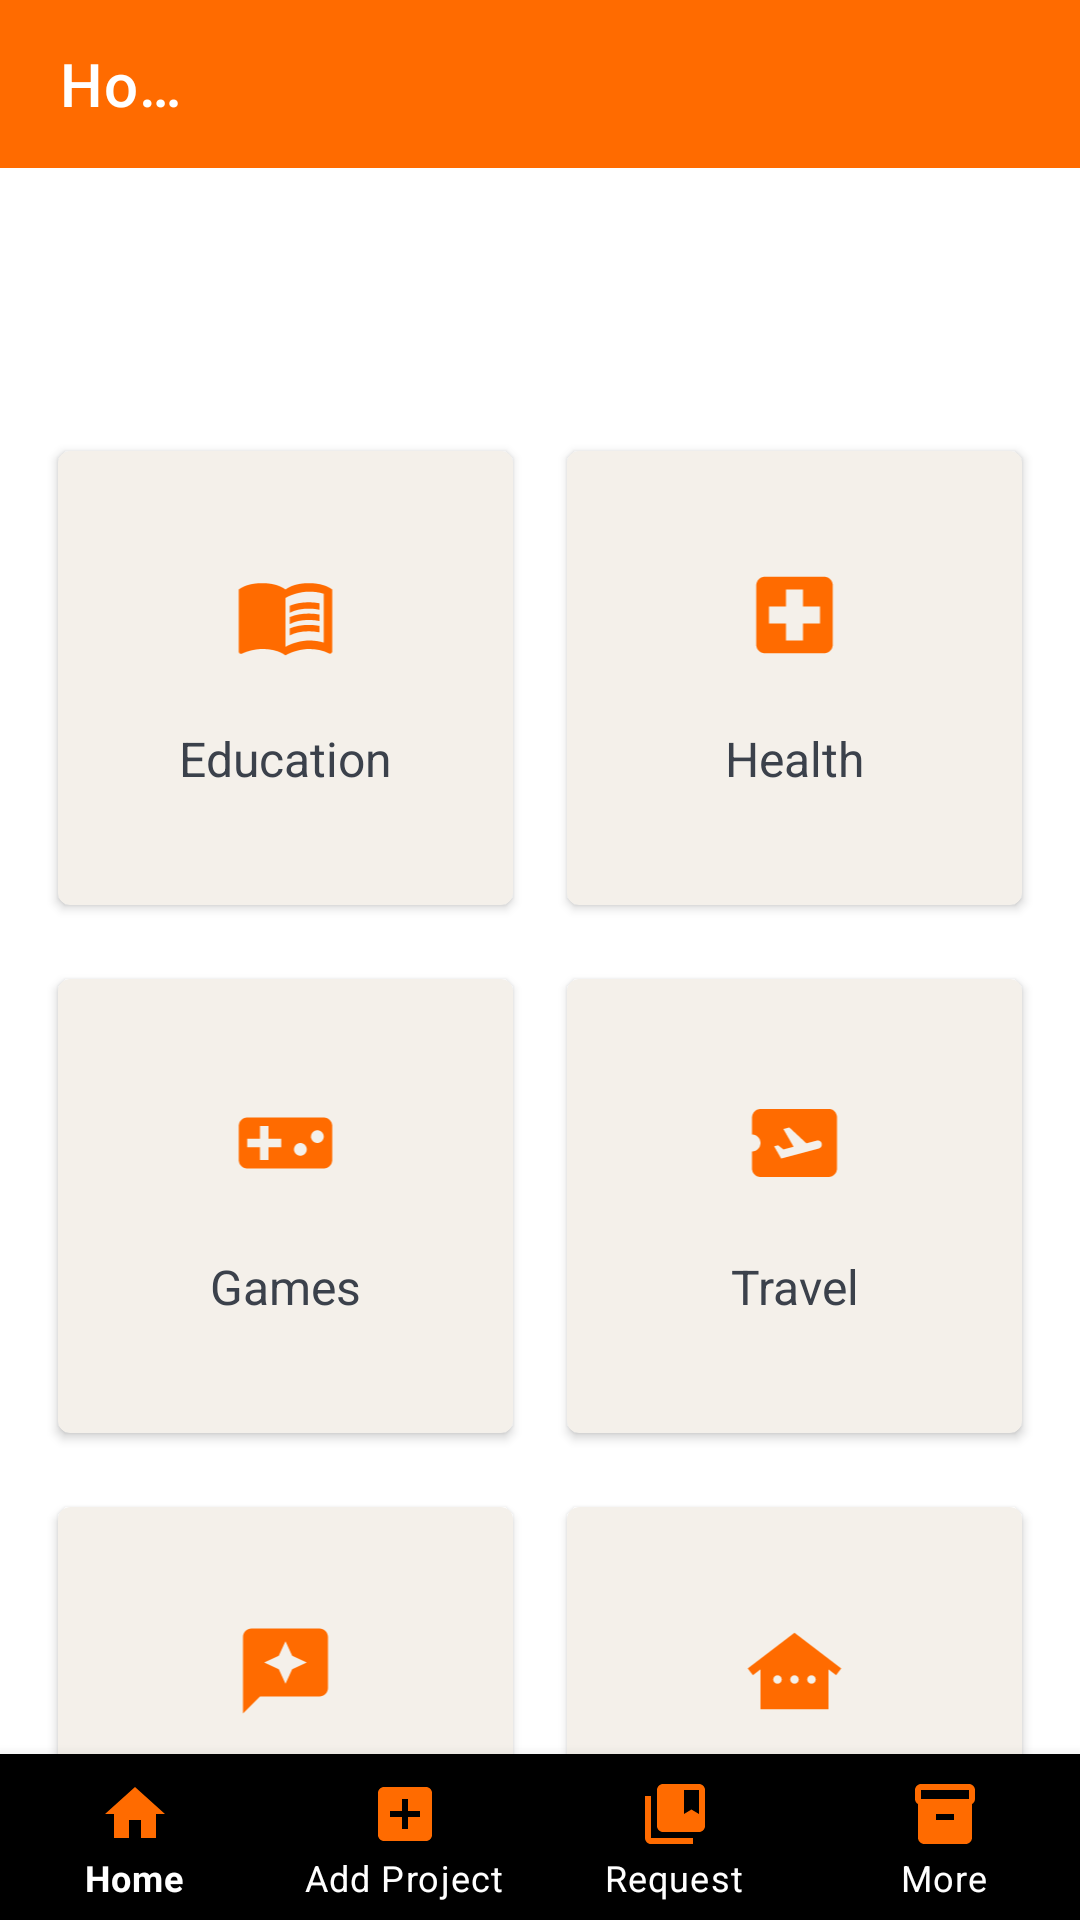

Icon click points for this 1080px x 1920px phone screenshot, format [x,y]:
airplane: [794,1143]
book: [285,619]
local hospital: [794,615]
other houses: [794,1671]
